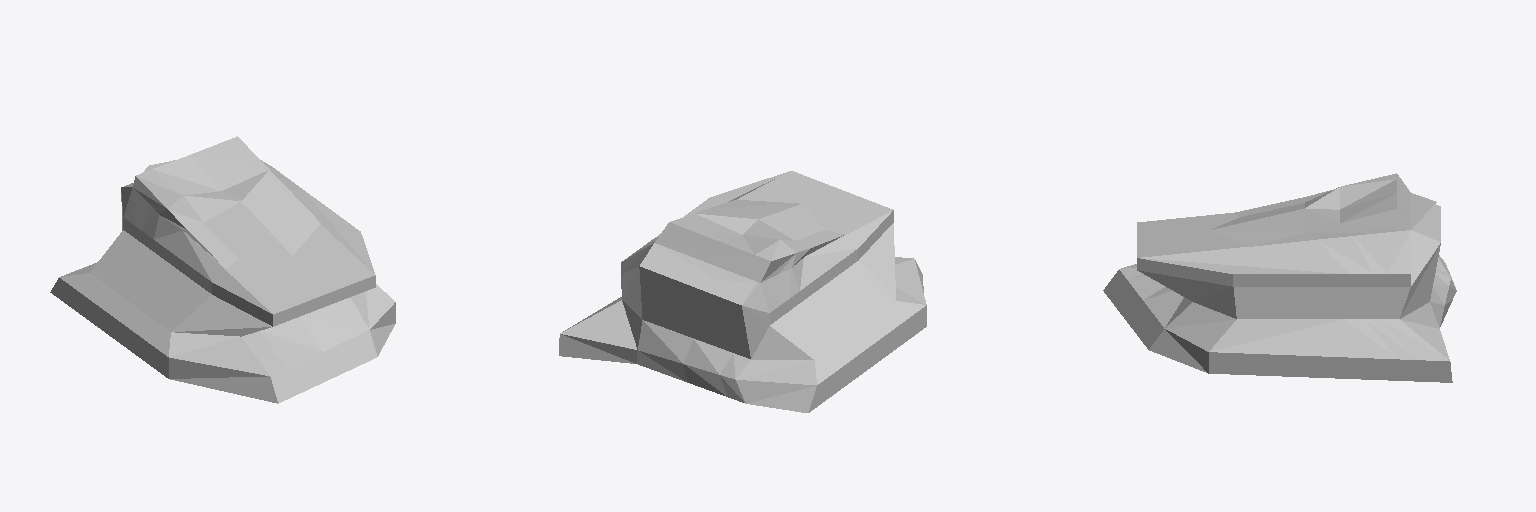
File: bigRock3.obj
3 renders of one model, left to right at view 1: azimuth 30°, elevation 25°; view 2: azimuth 150°, elevation 25°; view 3: azimuth 270°, elevation 25°, orthographic.
Parts seen in each view (by area): view 1: pCube1; view 2: pCube1; view 3: pCube1.
Part boxes in pixels (x1,y1,x2,y2): pCube1: (50, 136, 395, 403); pCube1: (559, 171, 926, 412); pCube1: (1103, 173, 1456, 382).
Bounding box in the file's own units: 2.98 × 1.55 × 3.72.